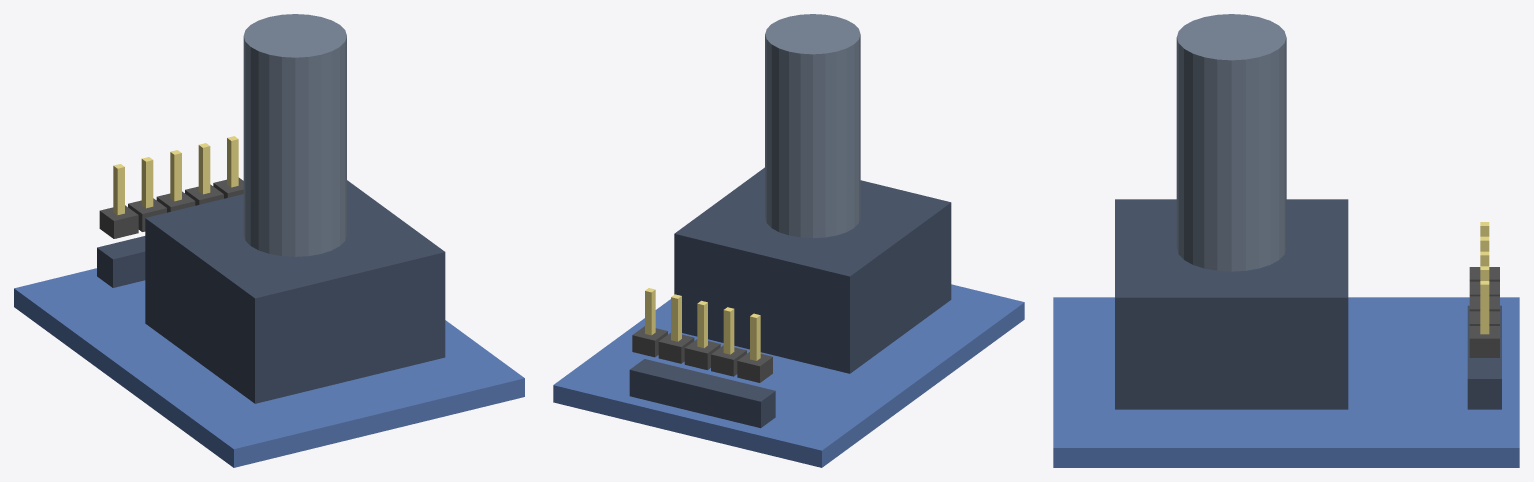
The model's file is analog-joystick.glb.
3 renders of one model, left to right at view 1: azimuth 30°, elevation 25°; view 2: azimuth 150°, elevation 25°; view 3: azimuth 270°, elevation 25°, orthographic. The views are drawn at different scales.
Visible parts, largest first — view 1: joystick-module-2axis_mesh; view 2: joystick-module-2axis_mesh; view 3: joystick-module-2axis_mesh.
Part boxes in pixels (<box>): joystick-module-2axis_mesh: <box>14,14,524,467</box>; joystick-module-2axis_mesh: <box>553,14,1024,467</box>; joystick-module-2axis_mesh: <box>1053,14,1519,467</box>.
Size of the model in its own units: 26 by 28.6 by 34.
